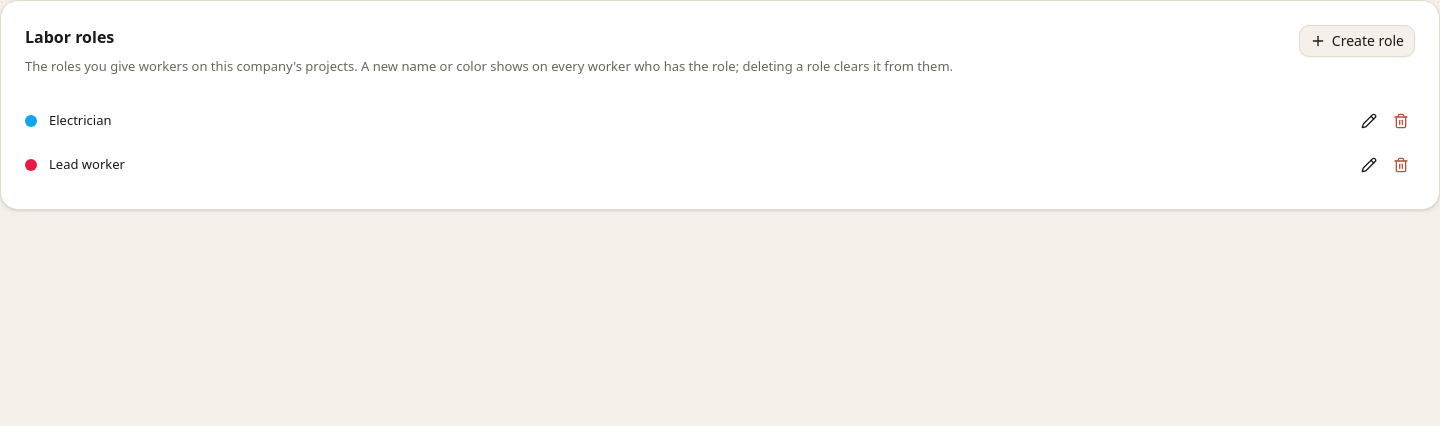
Test: CompanyLaborRolesCard › creates a role in the handed company
Check: the text "Electrician" is shown, box [49,111,112,129]
Click the button "Create role" at (1357, 41), box [1299,25,1415,57]
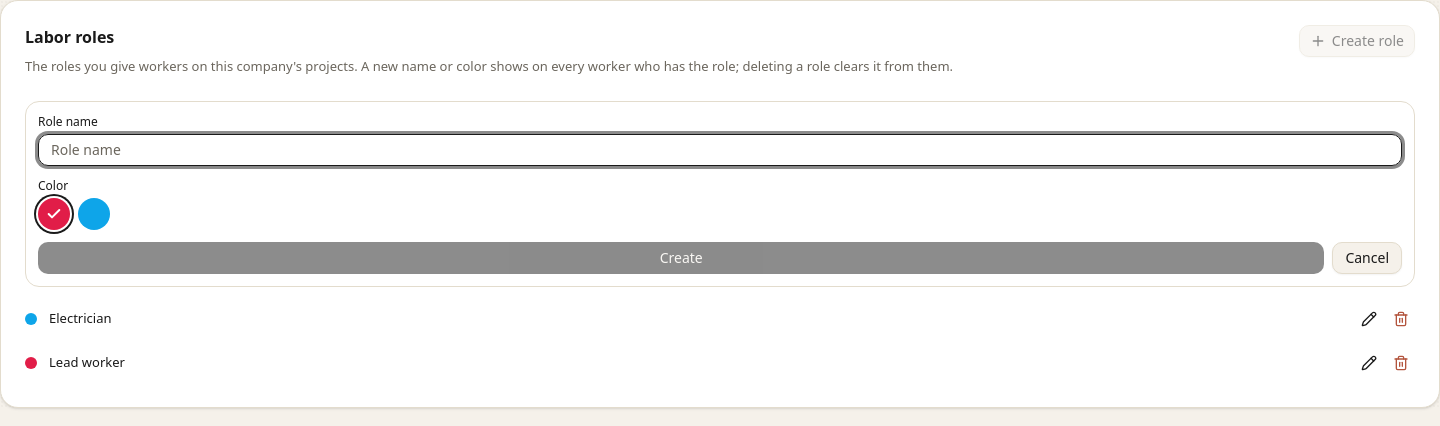
Type " Plumber " into the field labelled "Role name" at (720, 150), box [38,134,1402,166]
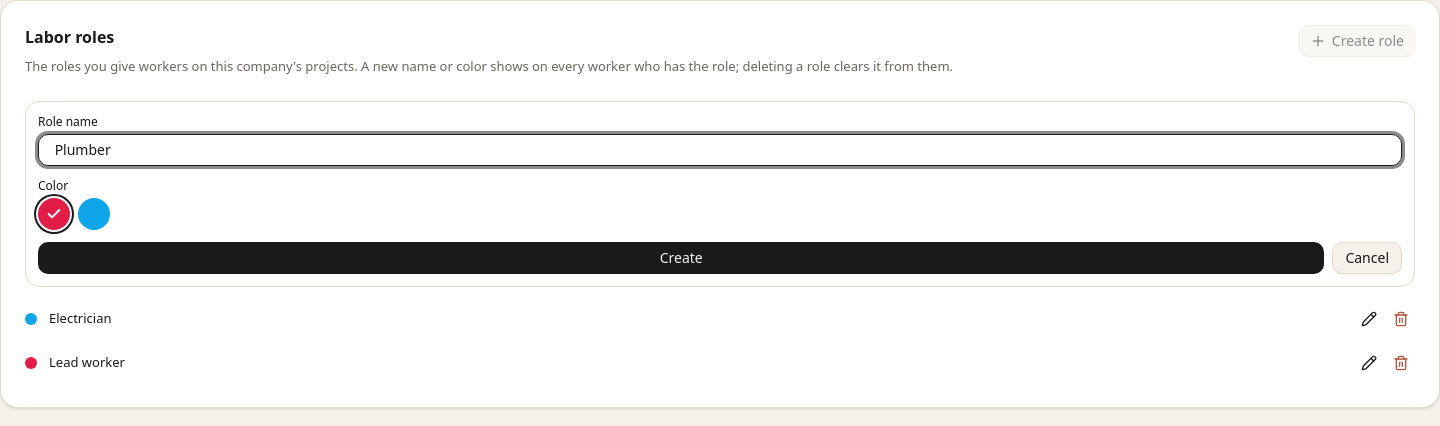
Click the button "Create" at (681, 258), box [38,242,1324,274]
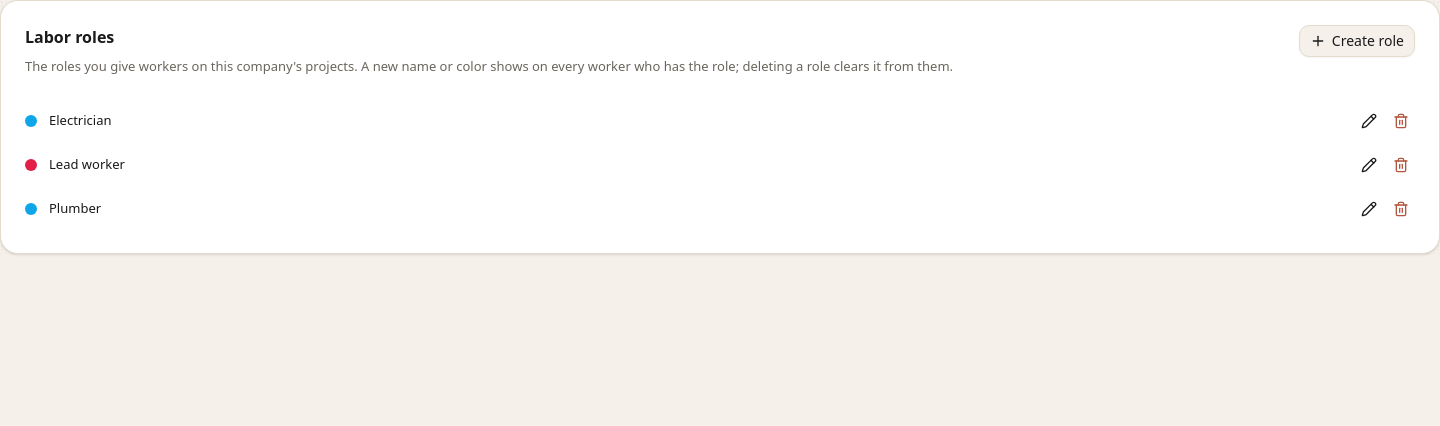
Check: the text "Plumber" is shown, box [49,199,101,217]
